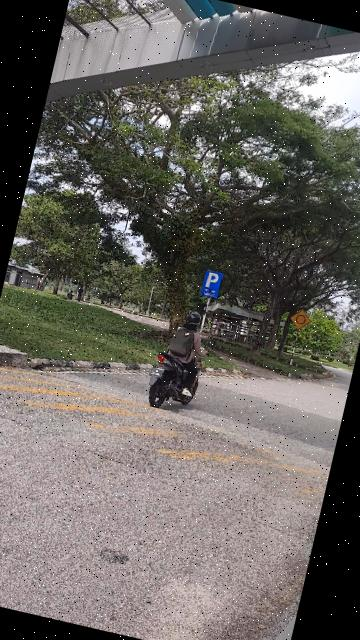motorcycle: (139, 299, 220, 420)
